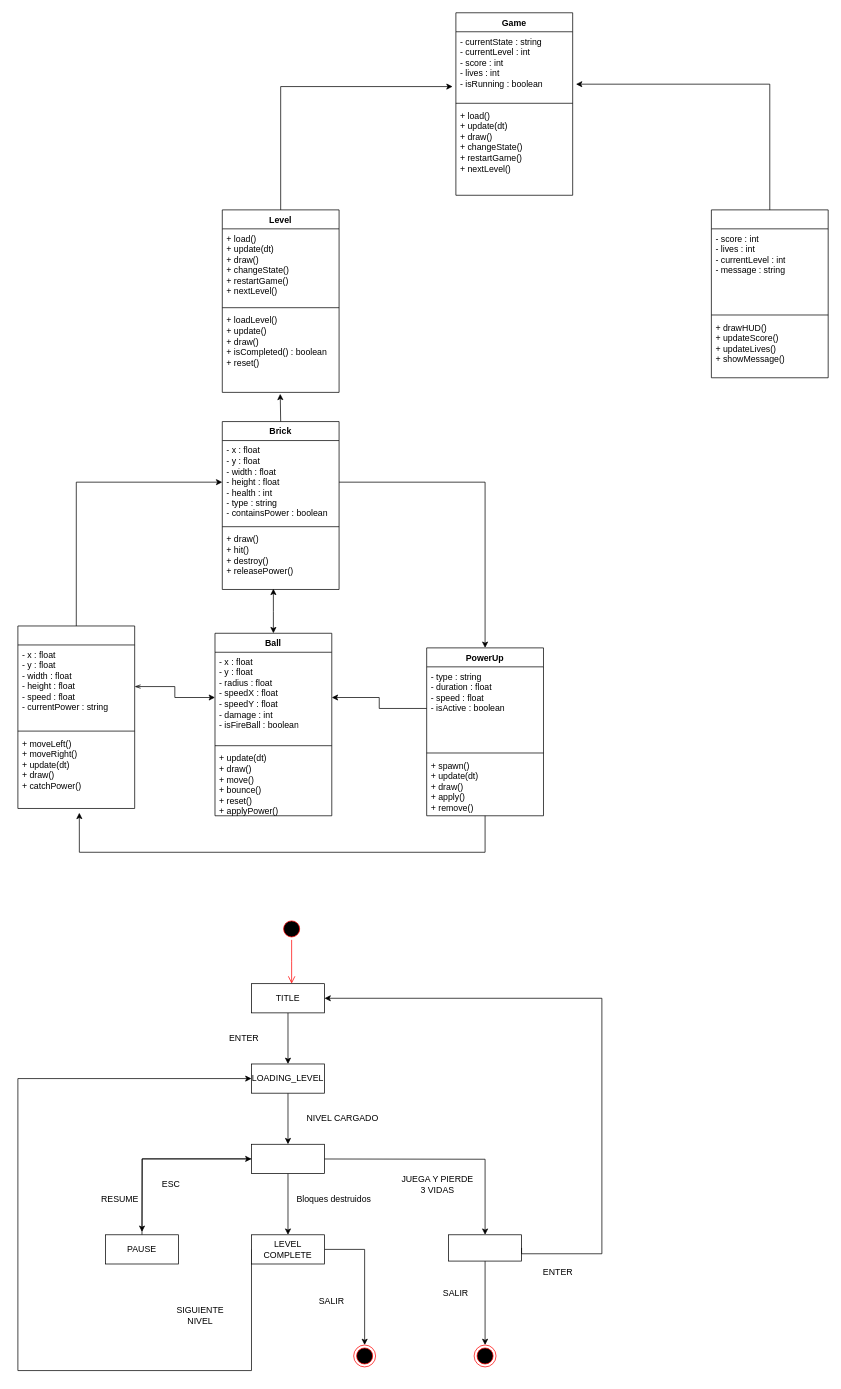
Image size: 841x1389. Some labels were removed from this diagram. The box of each missing label's shape, as (x1, y1, x2, y2) in pixels:
GAME OVER: (448, 1234, 522, 1261)
Paddle: (17, 625, 135, 808)
PLAY: (251, 1144, 324, 1173)
UI: (711, 209, 828, 378)
